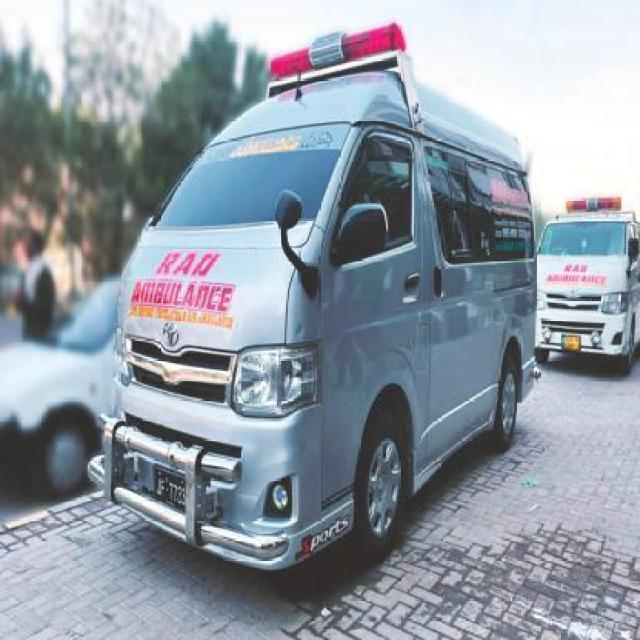emergency: (85, 20, 542, 574), (524, 191, 638, 379)
